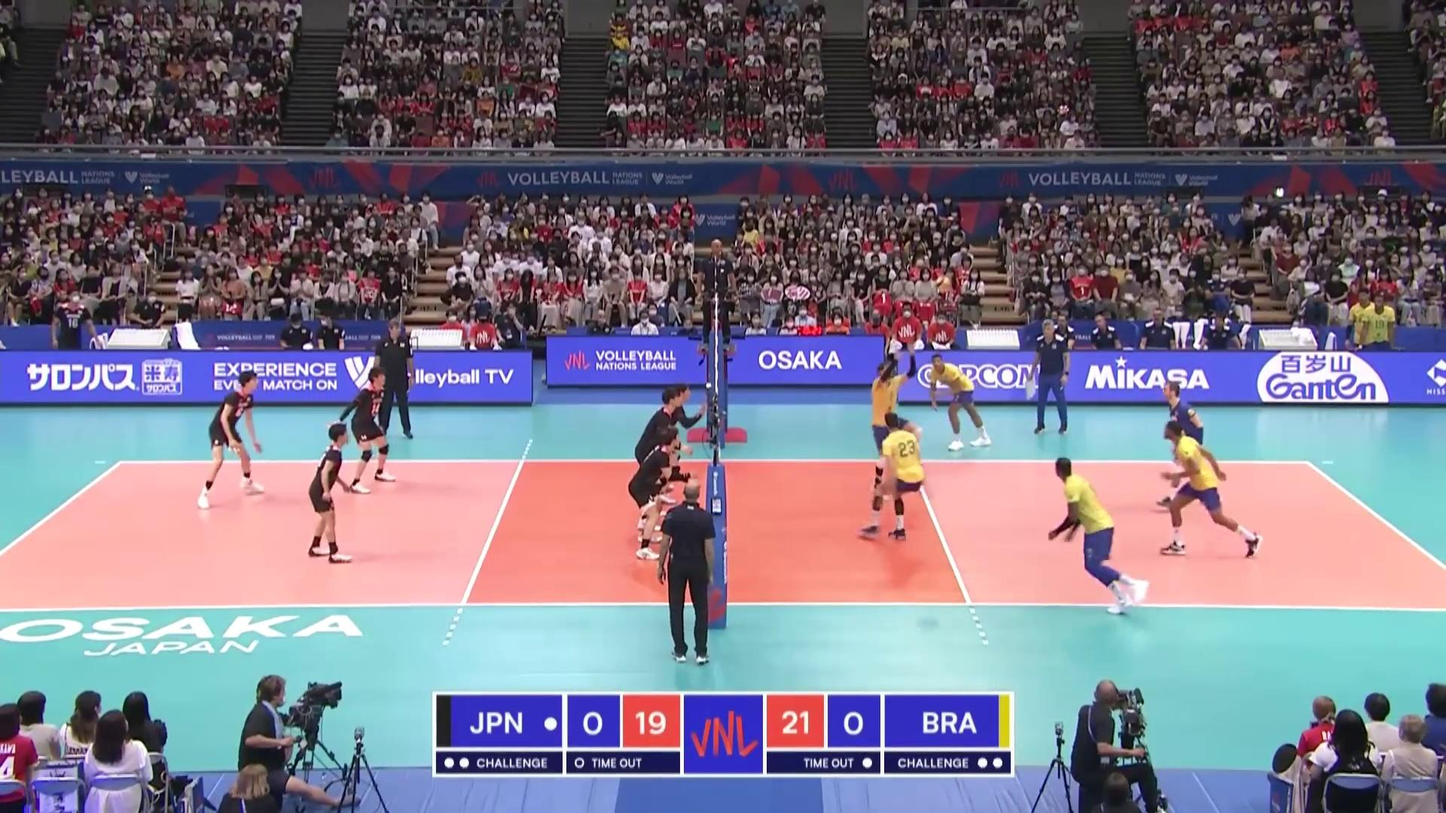player: (1047, 456, 1149, 615), (1162, 423, 1266, 560), (194, 370, 267, 509), (861, 413, 926, 542), (628, 428, 682, 560), (340, 367, 396, 493), (873, 352, 919, 504), (635, 389, 682, 529), (928, 354, 995, 452), (303, 424, 350, 563), (1160, 381, 1206, 509), (653, 385, 698, 502)
refree: (660, 480, 718, 665), (697, 237, 735, 358)
